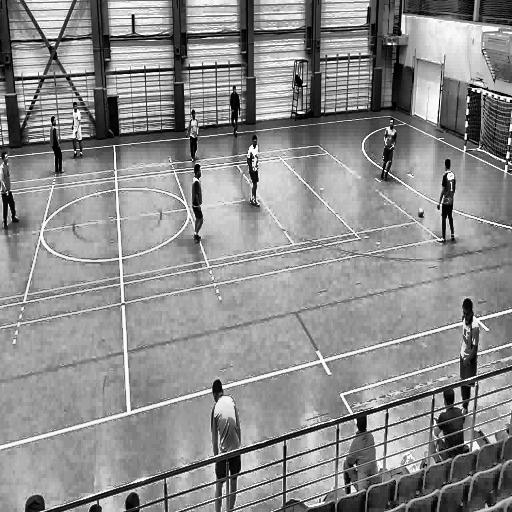ball: (418, 206, 426, 221)
player: (208, 374, 245, 509), (341, 409, 384, 491), (431, 380, 471, 468), (458, 294, 479, 420), (0, 149, 22, 233), (437, 158, 456, 248), (189, 164, 205, 249), (246, 133, 262, 210), (380, 118, 398, 184), (49, 113, 65, 177), (70, 99, 86, 162), (185, 107, 200, 164), (230, 83, 242, 142)
